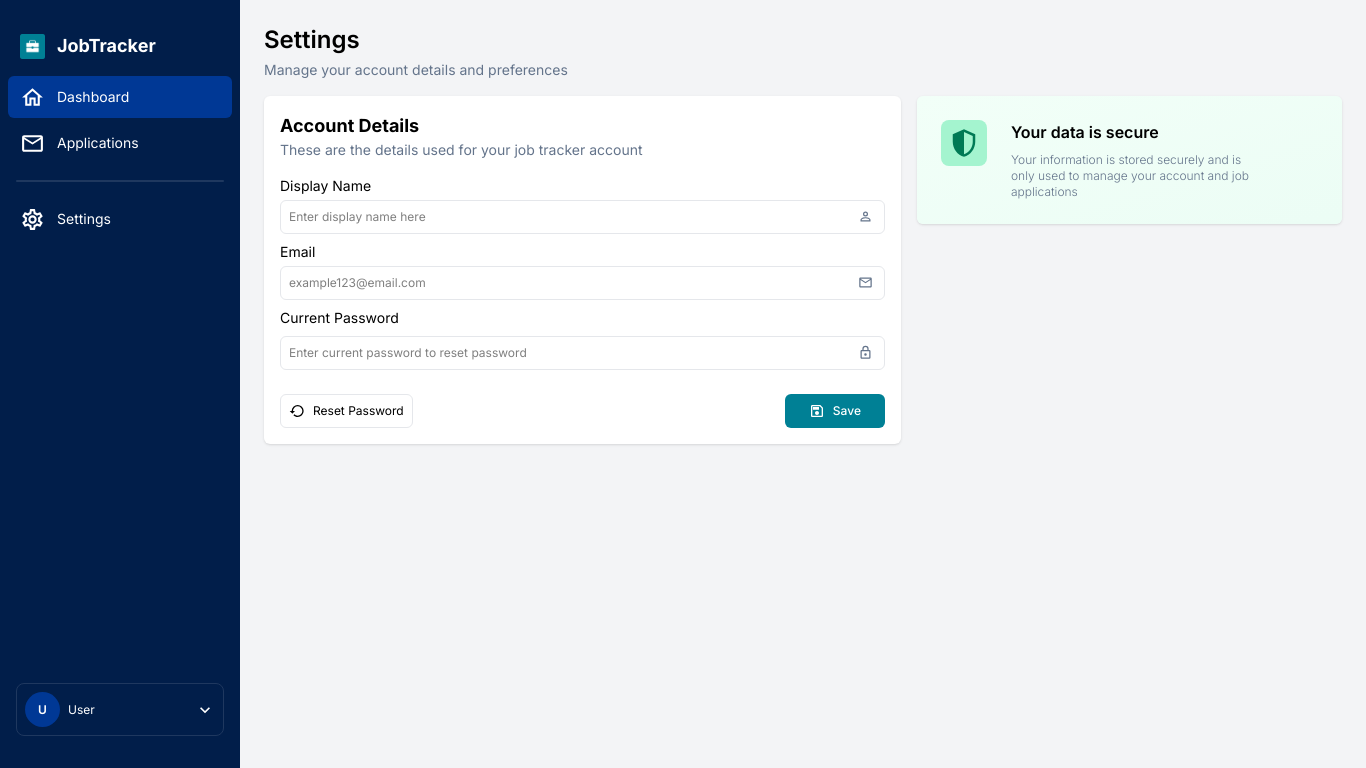
settings › opens reset password menu
The width and height of the screenshot is (1366, 768).
Click the button "Reset Password": [346, 411] box 280,394 -> 413,428
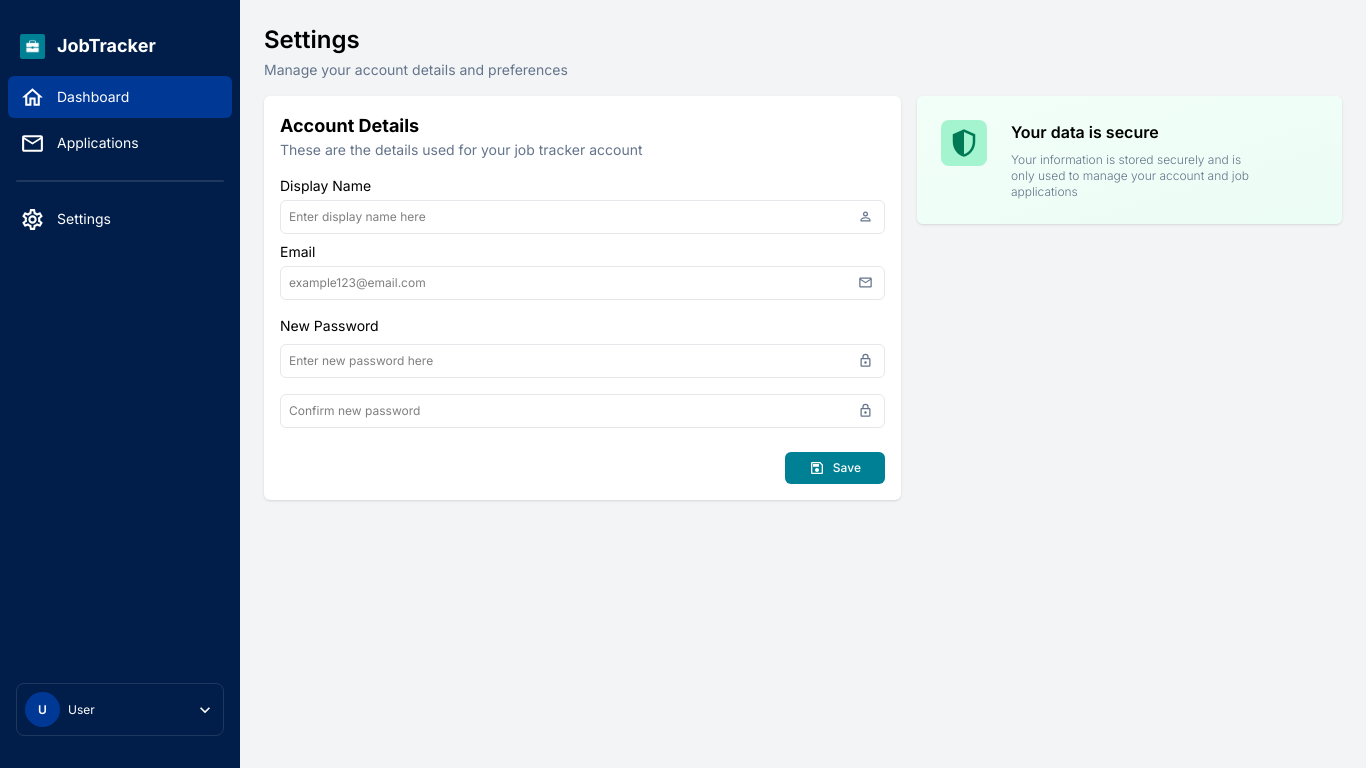
Now the password field with placeholder "Enter new password here" is shown, box 280,344 -> 885,378
